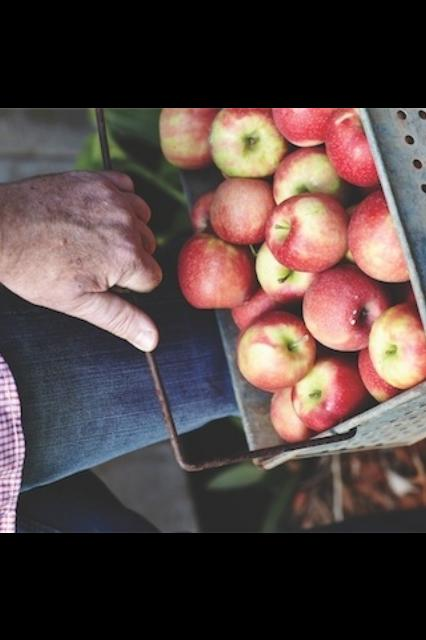Apples: (303, 265, 387, 349), (264, 192, 348, 272), (236, 310, 314, 390), (177, 229, 253, 307), (348, 191, 406, 281), (208, 107, 282, 177), (291, 357, 361, 429), (369, 305, 426, 387), (210, 178, 274, 242)
